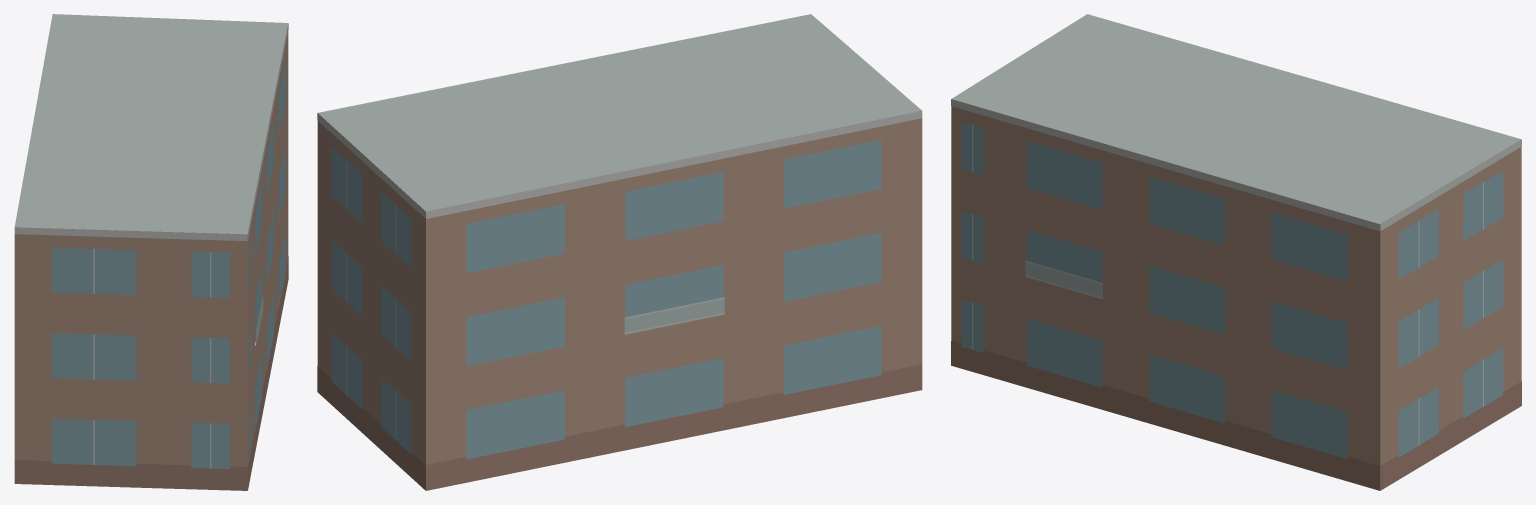
The model's file is survey-upis-32714488.glb.
The picture shows the model from 3 angles, left to right: view 1: azimuth 30°, elevation 25°; view 2: azimuth 150°, elevation 25°; view 3: azimuth 270°, elevation 25°; orthographic projection. The views are drawn at different scales.
Parts seen in each view (by area): view 1: survey-upis-32714488.tmp; view 2: survey-upis-32714488.tmp; view 3: survey-upis-32714488.tmp.
Part boxes in pixels (x1,y1,x2,y2): survey-upis-32714488.tmp: (14,14,288,490); survey-upis-32714488.tmp: (317,14,922,490); survey-upis-32714488.tmp: (951,14,1521,490).
Bounding box in the file's own units: 15.49 × 9.15 × 17.76.
